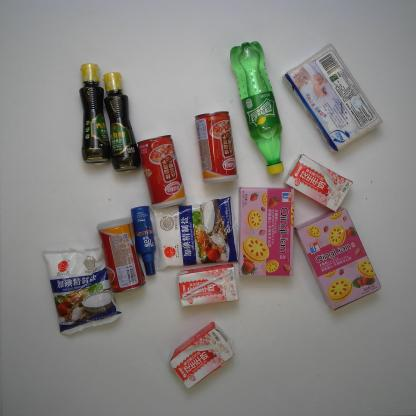Canned Food: (98, 218, 148, 296), (138, 134, 185, 209), (193, 111, 240, 185)
Dessert: (294, 208, 382, 312), (236, 186, 298, 280)
Drink: (229, 42, 287, 174)
Milk: (167, 324, 235, 389), (285, 154, 355, 216), (179, 264, 242, 306)
Personal Hygiene: (130, 206, 157, 277)
Seasoner: (42, 244, 125, 338), (150, 194, 245, 274), (102, 70, 140, 172), (76, 62, 110, 164)
Tissue: (285, 45, 385, 154)
